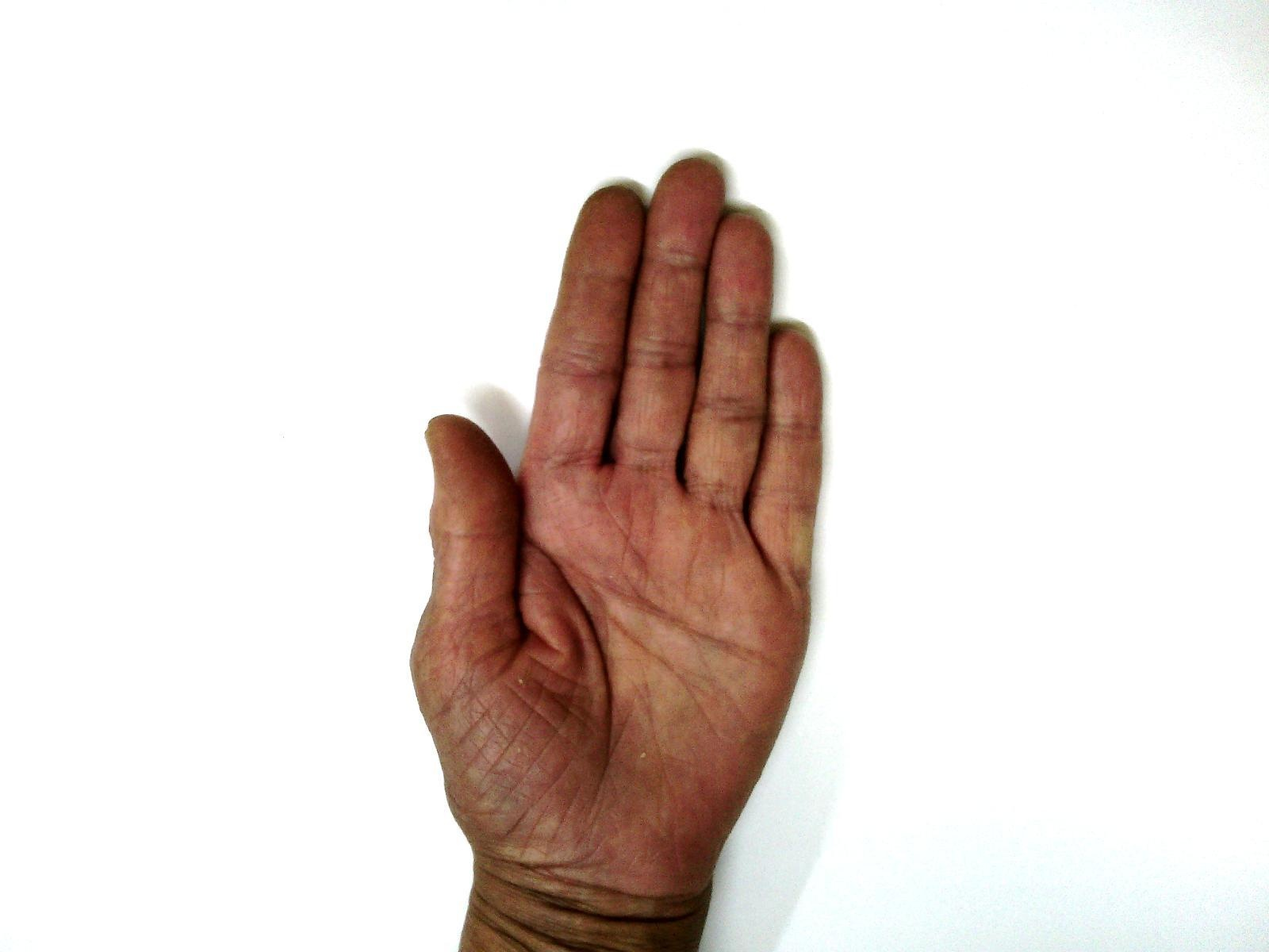open_palm: (408, 155, 830, 907)
